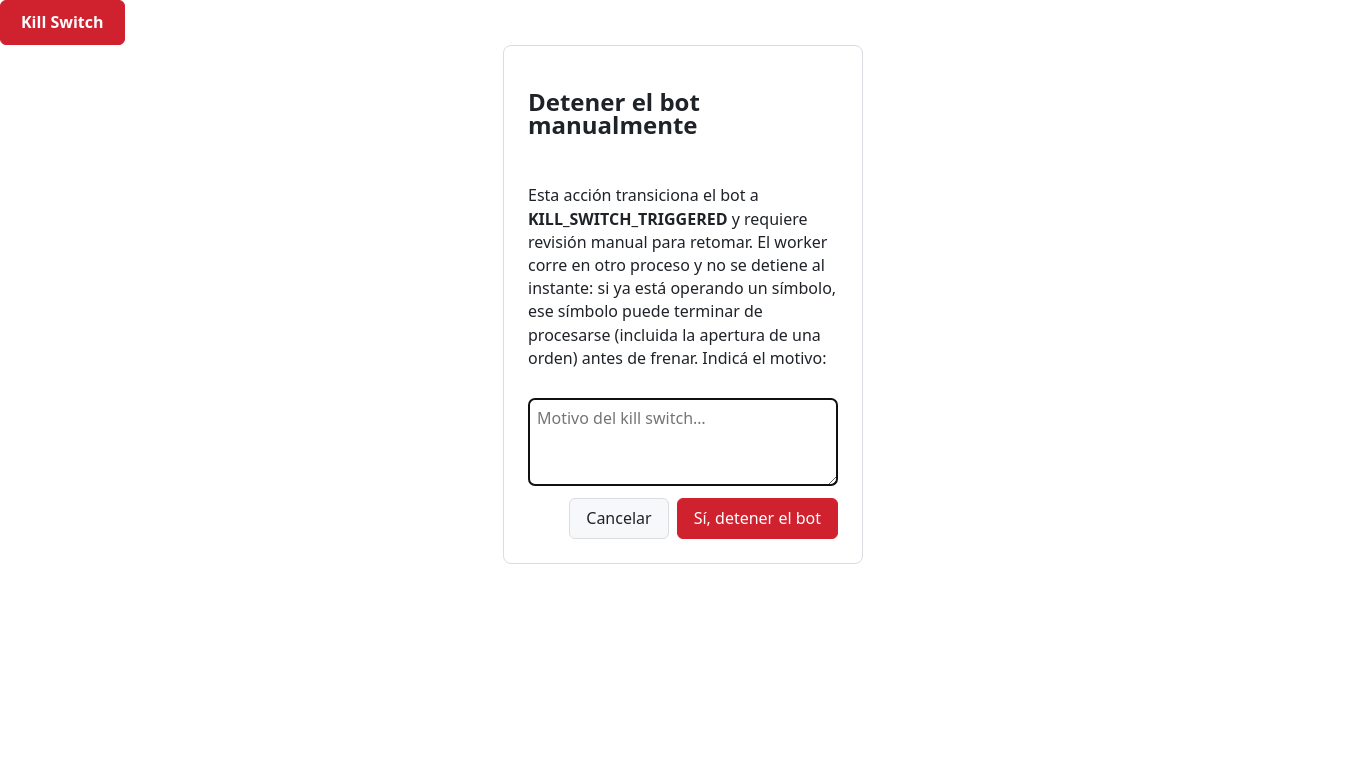
Test: KillSwitchButton › shows the API error message when the request fails
Click the button "Kill Switch". click: [62, 23]
box: [0, 0, 124, 45]
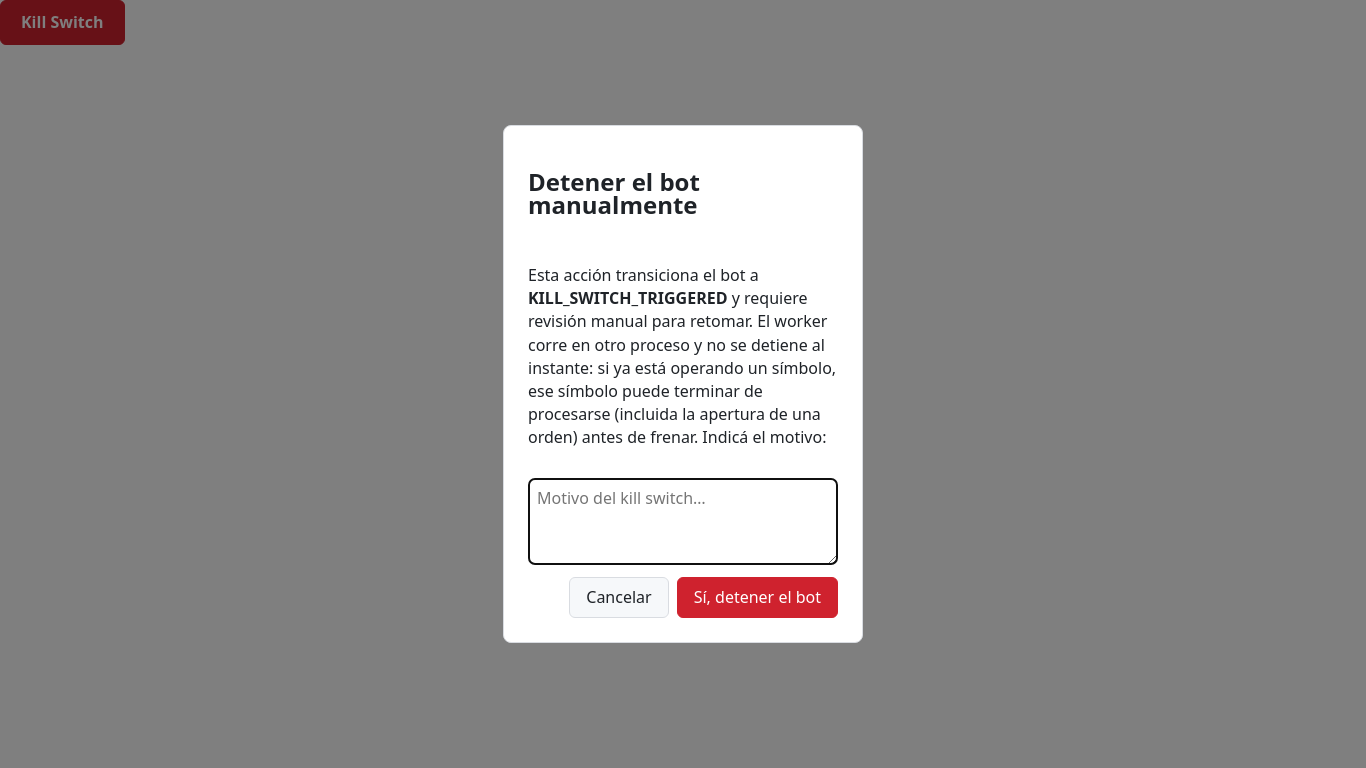
Type "motivo" into the text box with placeholder "Motivo del kill switch…". click: [683, 521]
box: [528, 478, 838, 565]
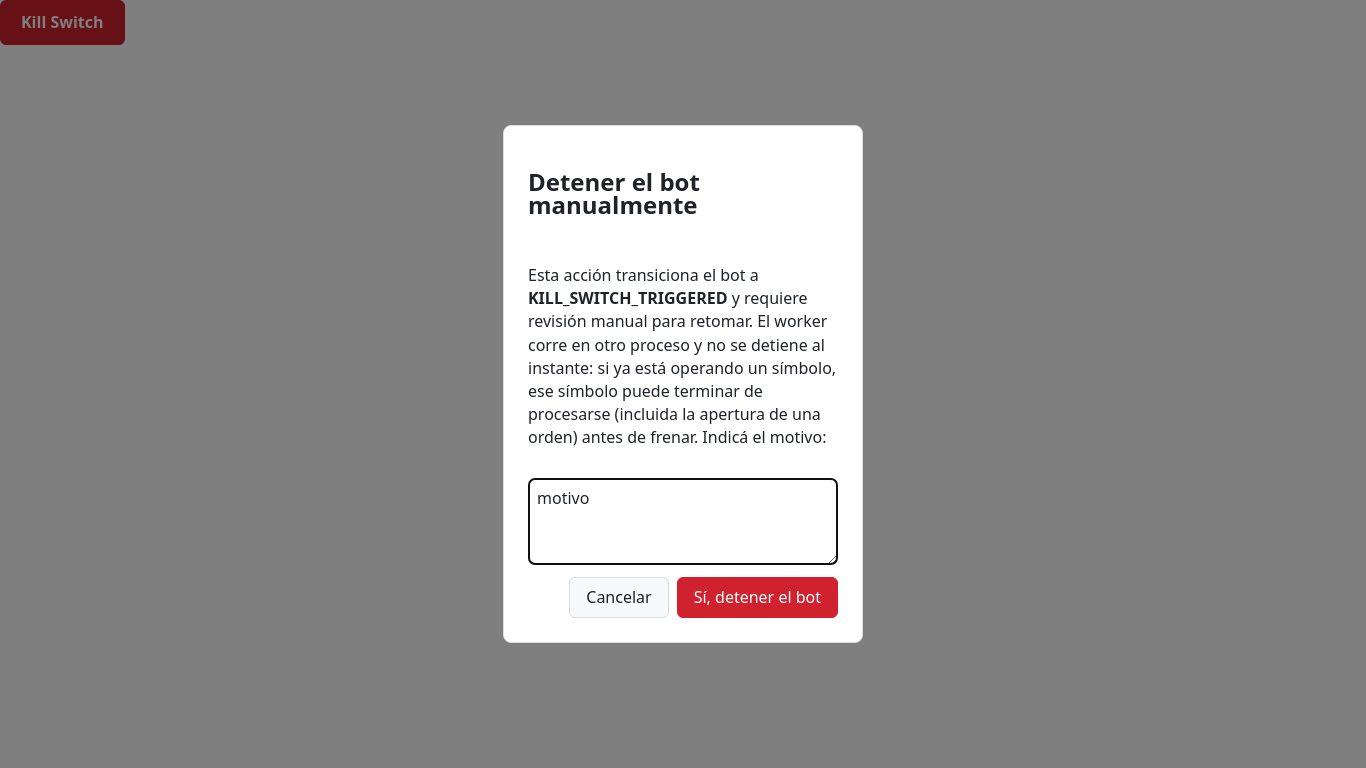
Click the button "Sí, detener el bot". click: [757, 598]
box: [677, 577, 838, 618]
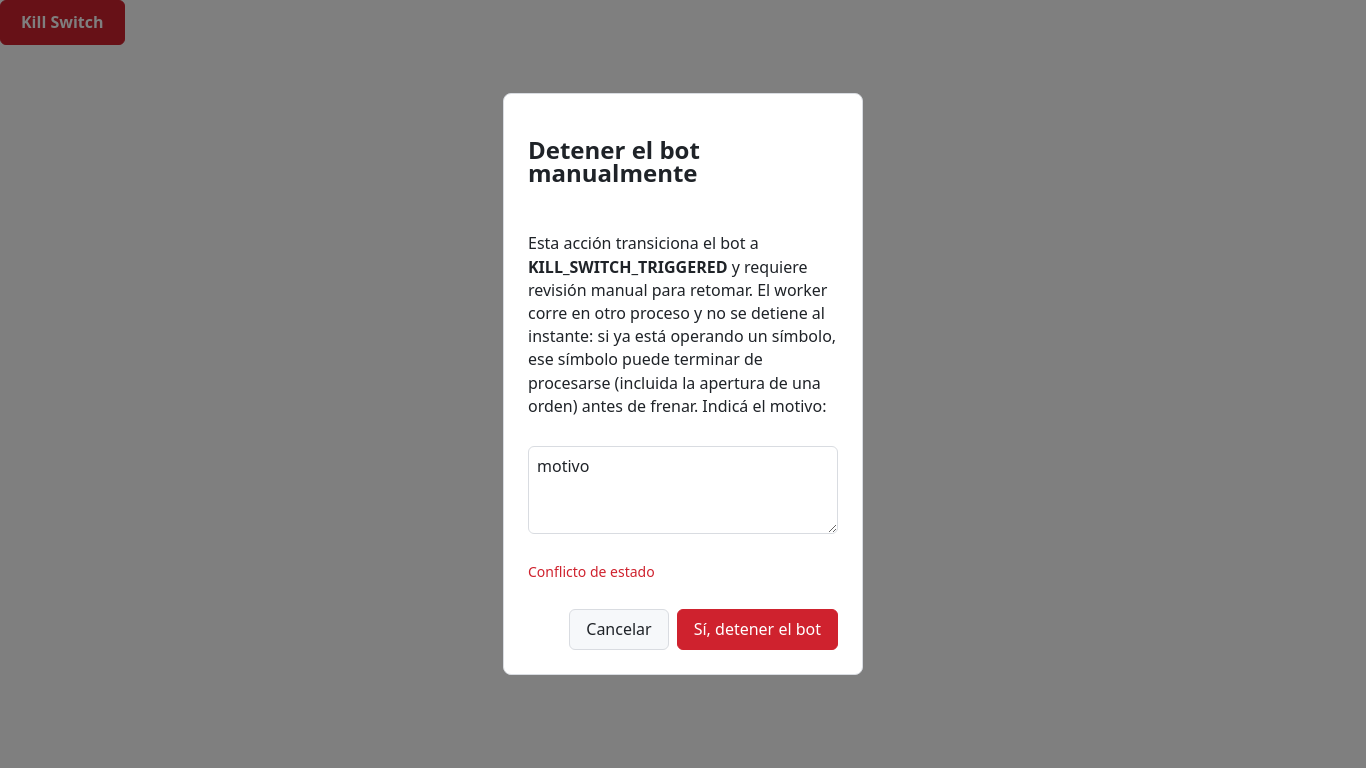
Now the text "Conflicto de estado" is shown, box [528, 562, 655, 580]
